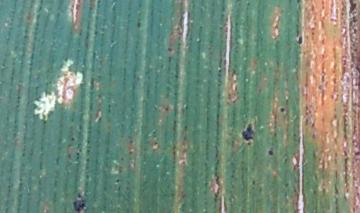tarspot: (72, 191, 88, 213), (242, 124, 256, 142), (297, 35, 304, 44), (278, 107, 286, 114), (137, 19, 142, 30), (267, 150, 275, 156)
